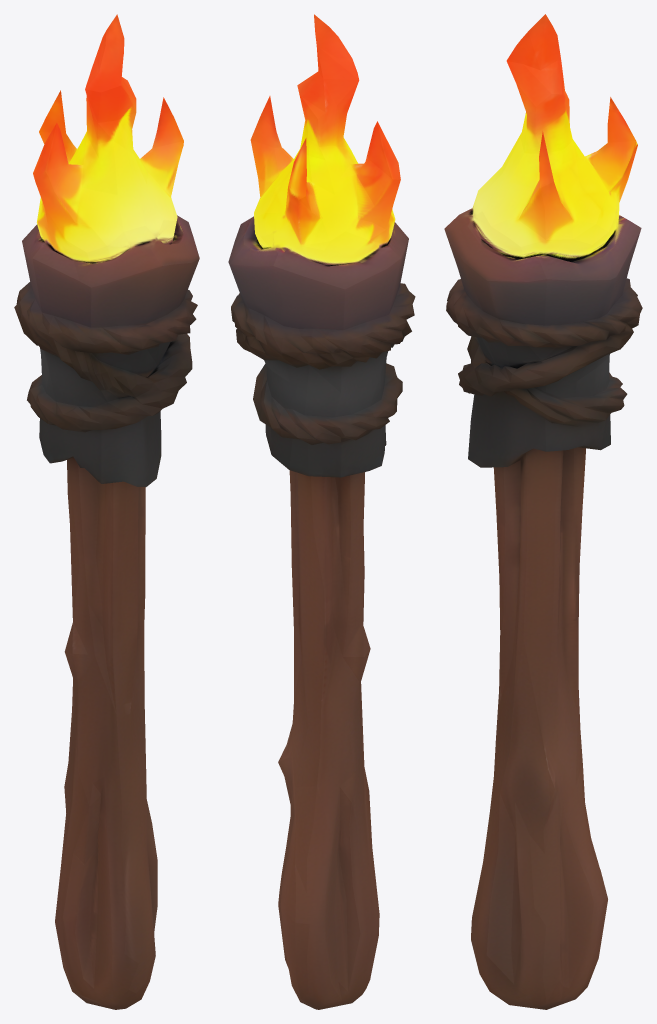
File: base_basic_shaded.fbx
3 renders of one model, left to right at view 1: azimuth 30°, elevation 25°; view 2: azimuth 150°, elevation 25°; view 3: azimuth 270°, elevation 25°, orthographic.
Parts seen in each view (by area): view 1: model; view 2: model; view 3: model.
Part boxes in pixels (<box>): model: <box>14,14,199,1009</box>; model: <box>228,14,415,1009</box>; model: <box>444,14,642,1009</box>.
Size of the model in its own units: 28.05 by 166 by 30.08.
